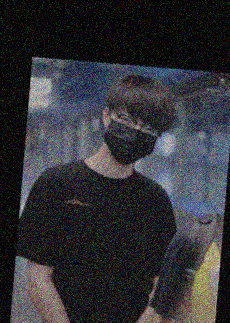with_mask: (102, 108, 159, 165)
